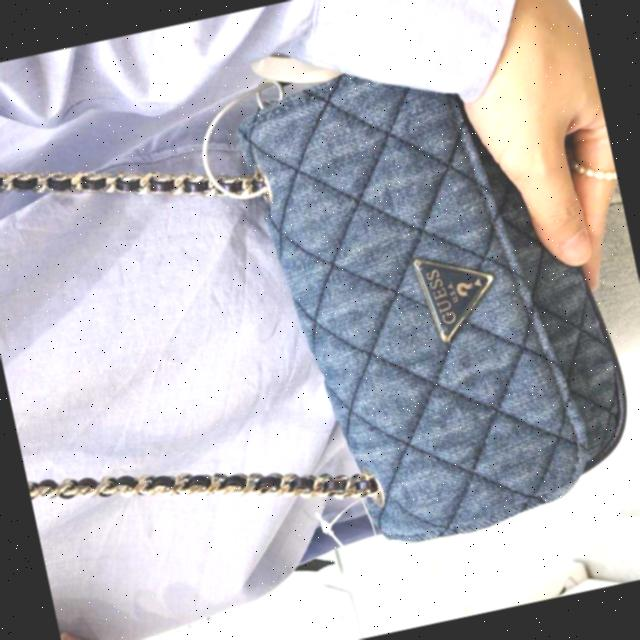handbag: (208, 4, 640, 575)
